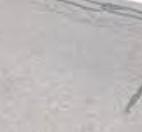crack: (63, 1, 142, 21)
